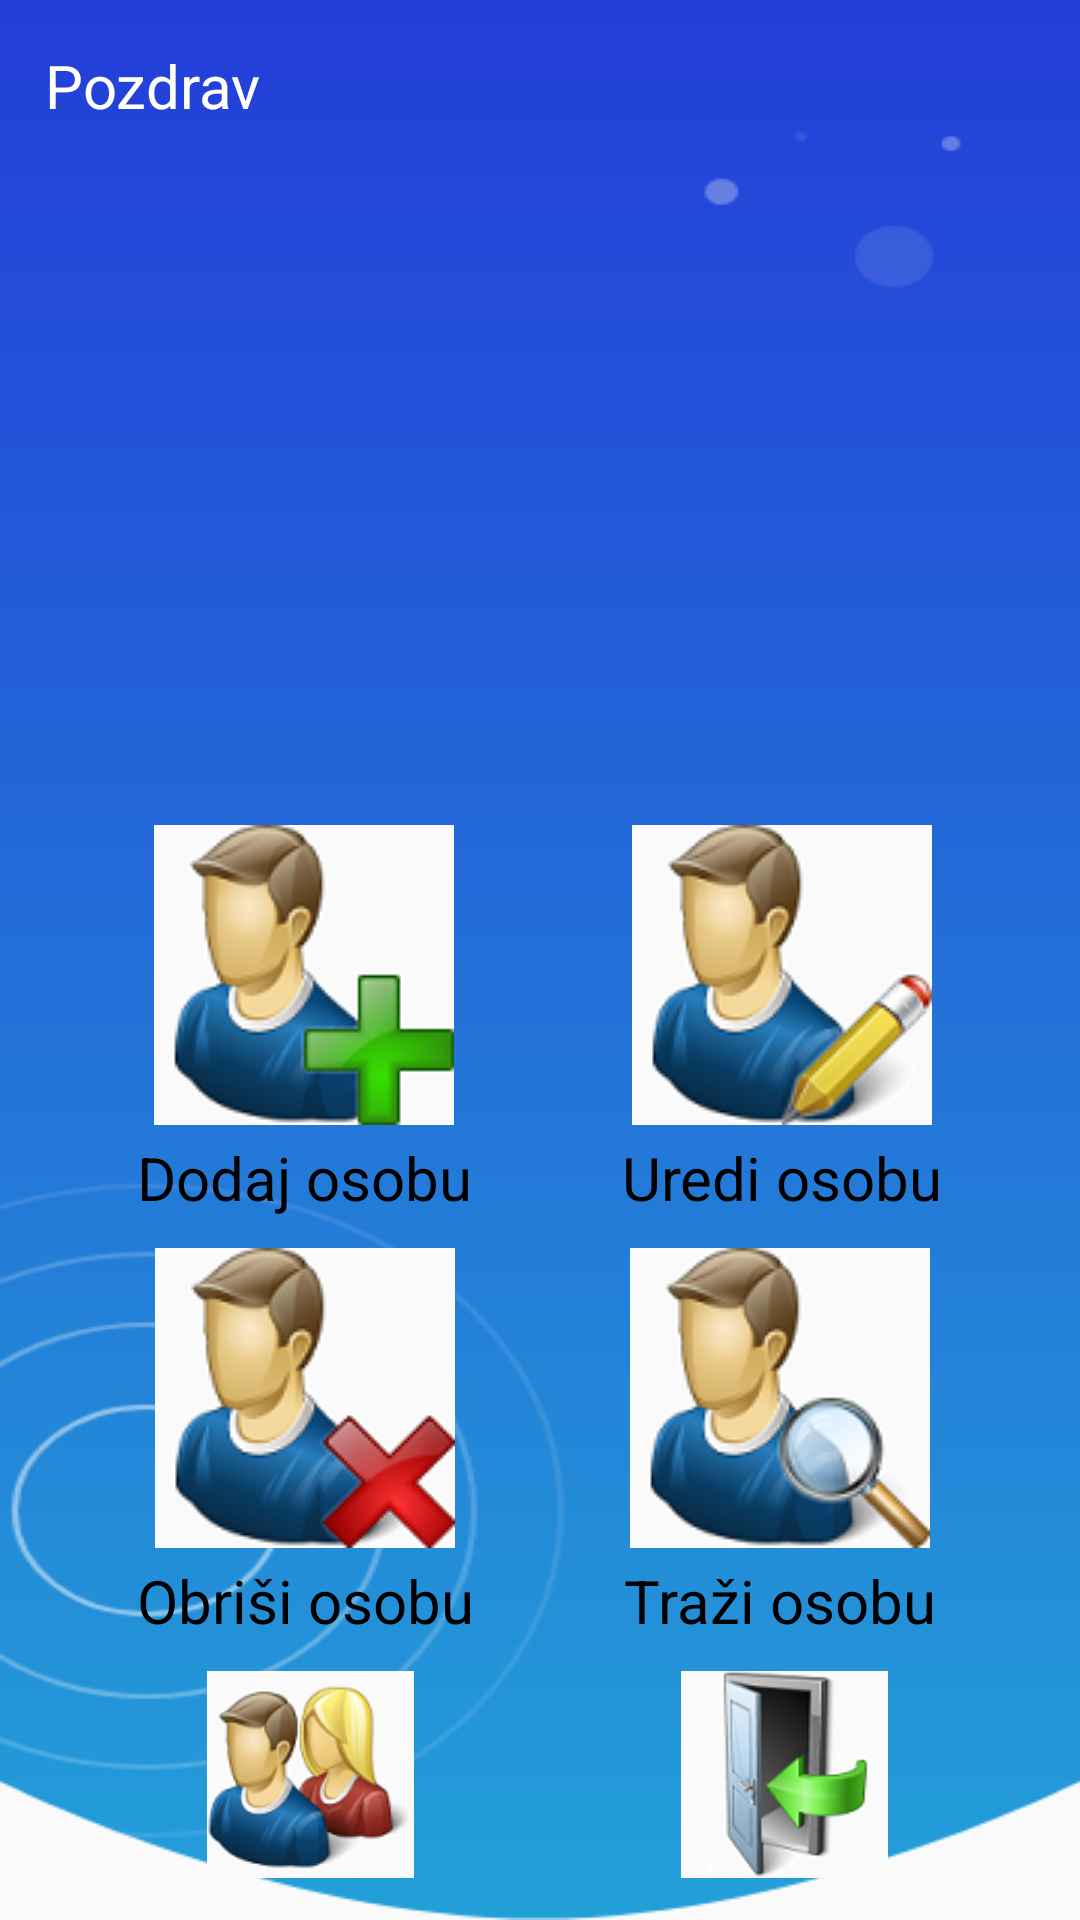

Screen size 1080 x 1920. Icon name, then its box in pixels as (x1, y1, x2, y2):
odjavi se: (681, 1671, 934, 1878)
prikazi osobe: (160, 1671, 414, 1878)
